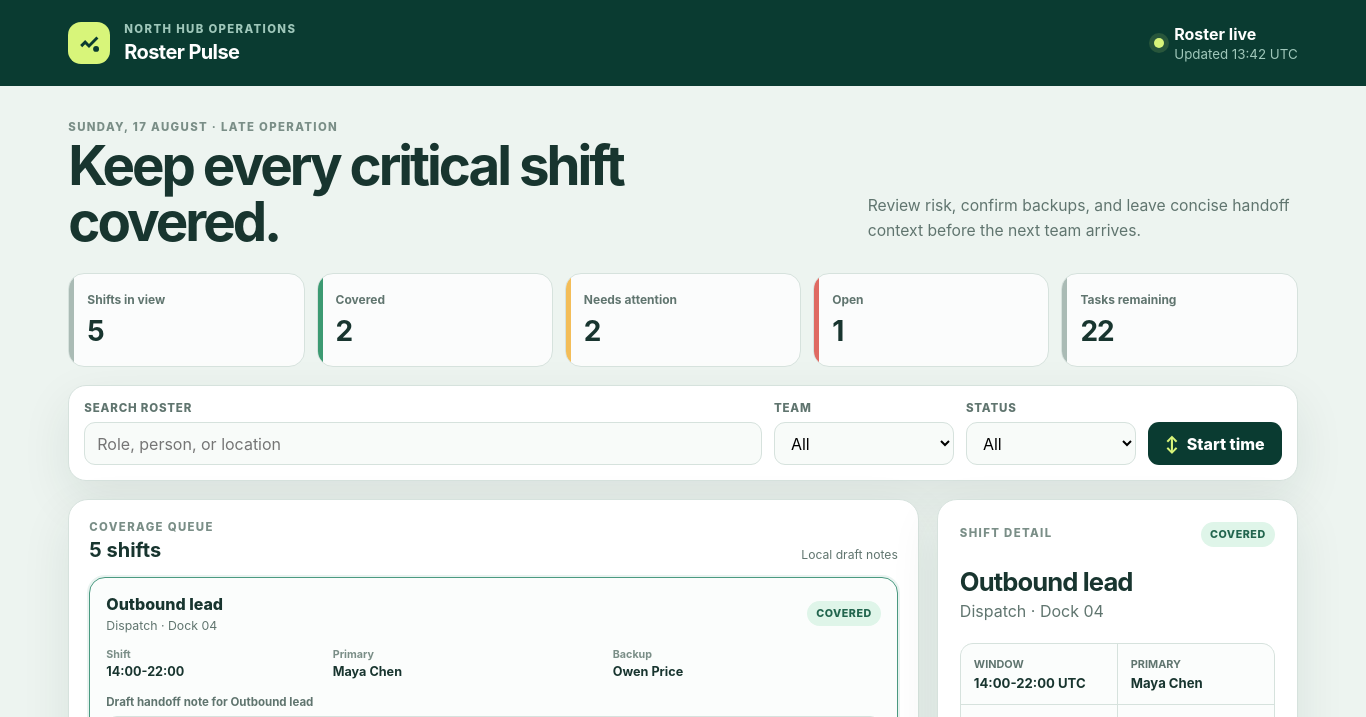
it: Roster Pulse › filters the roster by a person's name
In the search field labelled "Search roster": (423, 444) top-left (84, 422), bottom-right (762, 465), type "Priya"
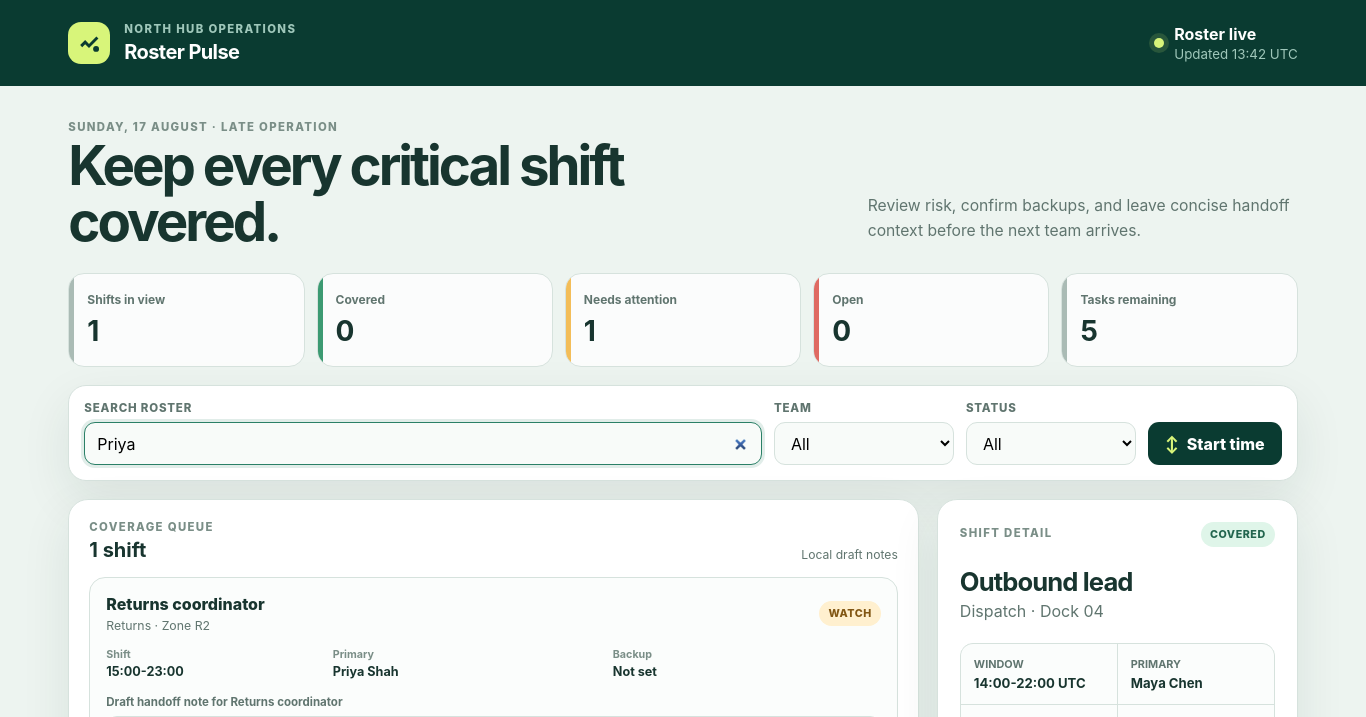
Expected: the heading "1 shift" is shown, top-left (89, 538), bottom-right (146, 562)
Expected: the text "Returns coordinator" is shown, top-left (106, 594), bottom-right (265, 614)
